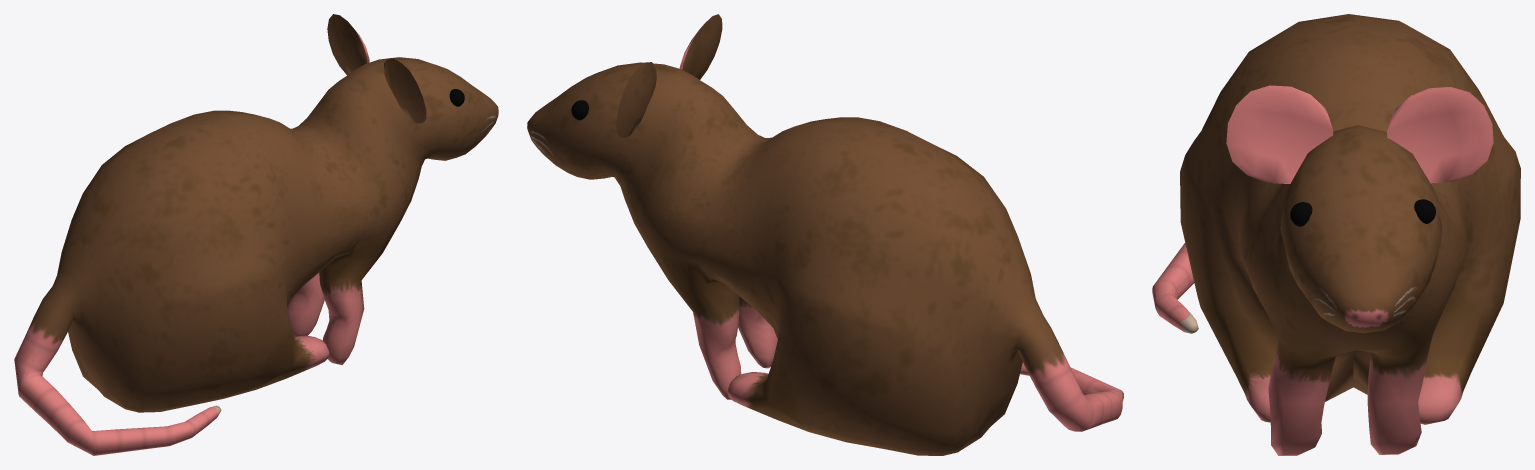
File: rata_salto.fbx
The picture shows the model from 3 angles, left to right: view 1: azimuth 30°, elevation 25°; view 2: azimuth 150°, elevation 25°; view 3: azimuth 270°, elevation 25°; orthographic projection. The views are drawn at different scales.
Visible parts, largest first — view 1: Cube; view 2: Cube; view 3: Cube.
Boxes of the visible parts, bbox=[...] form: Cube: bbox=[14, 14, 498, 455]; Cube: bbox=[527, 14, 1123, 455]; Cube: bbox=[1152, 14, 1520, 455].
Size of the model in its own units: 5.68 by 3.35 by 2.63.
1 material, 1 textured.
